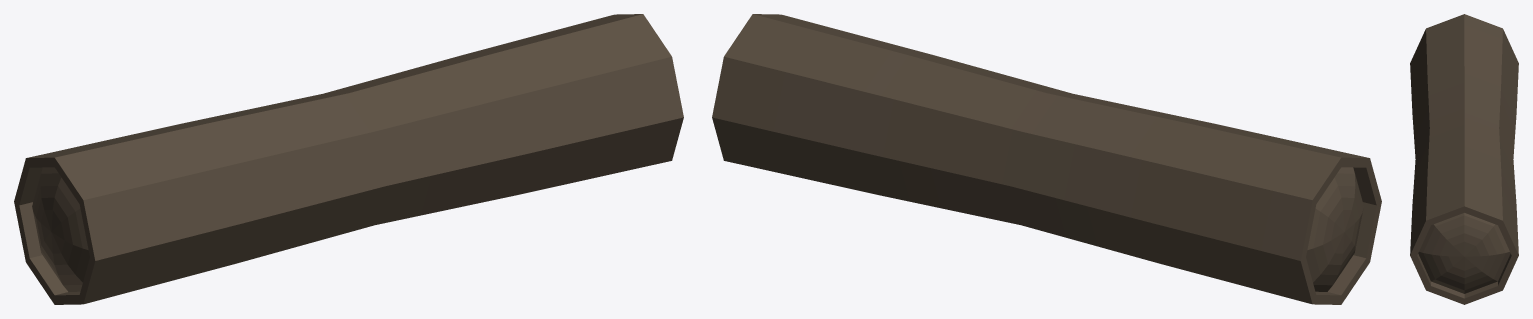
Rendered from Log_V2_Flare.fbx.
3 views of the same model, side by side, from view 1: azimuth 30°, elevation 25°; view 2: azimuth 150°, elevation 25°; view 3: azimuth 270°, elevation 25° (orthographic). The views are drawn at different scales.
Parts seen in each view (by area): view 1: Log_Flare_01; view 2: Log_Flare_01; view 3: Log_Flare_01.
Part boxes in pixels (x1=…): Log_Flare_01: x1=14, y1=14, x2=683, y2=304; Log_Flare_01: x1=712, y1=14, x2=1381, y2=304; Log_Flare_01: x1=1410, y1=14, x2=1518, y2=304.
Size of the model in its own units: 84.51 by 20 by 20.
